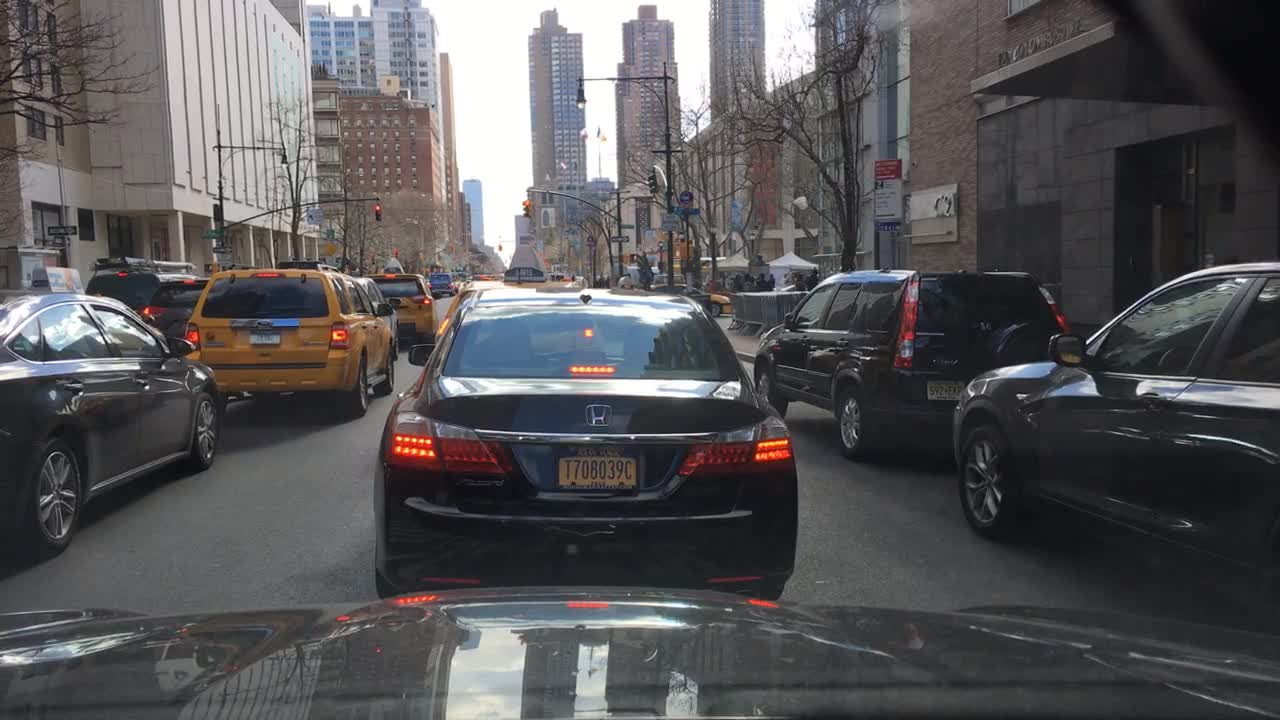car: (370, 288, 802, 600), (952, 259, 1279, 584), (0, 263, 223, 571), (752, 265, 1075, 460), (180, 267, 401, 416), (431, 242, 587, 352), (85, 251, 197, 316), (362, 255, 435, 347), (138, 275, 214, 342), (650, 280, 733, 316), (273, 260, 348, 276), (424, 269, 456, 299)
person: (729, 270, 745, 294), (805, 266, 819, 290), (792, 271, 805, 293), (757, 271, 769, 293), (741, 272, 754, 290), (766, 271, 774, 288)
traffic light: (645, 169, 662, 195), (522, 196, 532, 221), (373, 200, 380, 222), (495, 240, 503, 254)
traffic sign: (44, 223, 76, 235), (674, 189, 695, 207), (672, 207, 703, 217), (305, 209, 324, 225), (605, 234, 631, 244), (201, 226, 224, 236), (582, 235, 598, 248), (211, 245, 231, 254), (617, 221, 642, 227), (324, 226, 337, 236)
